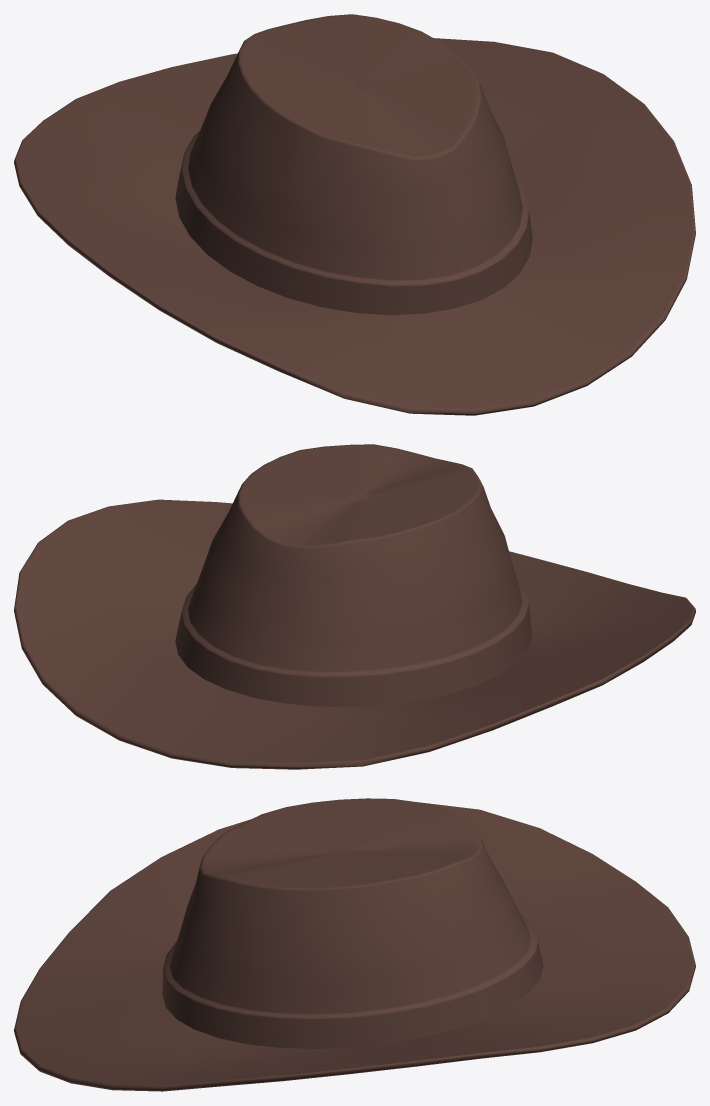
Rendered from MalePrisoner_Hat.fbx.
The picture shows the model from 3 angles, top to bottom: view 1: azimuth 30°, elevation 25°; view 2: azimuth 150°, elevation 25°; view 3: azimuth 270°, elevation 25°; orthographic projection. The views are drawn at different scales.
Visible parts, largest first — view 1: MalePrisoner_Hat; view 2: MalePrisoner_Hat; view 3: MalePrisoner_Hat.
Part boxes in pixels (left/top/right/bottom): MalePrisoner_Hat: left=14, top=14, right=695, bottom=415; MalePrisoner_Hat: left=14, top=444, right=695, bottom=769; MalePrisoner_Hat: left=14, top=798, right=695, bottom=1091.
Size of the model in its own units: 0.319 by 0.1095 by 0.3473.
